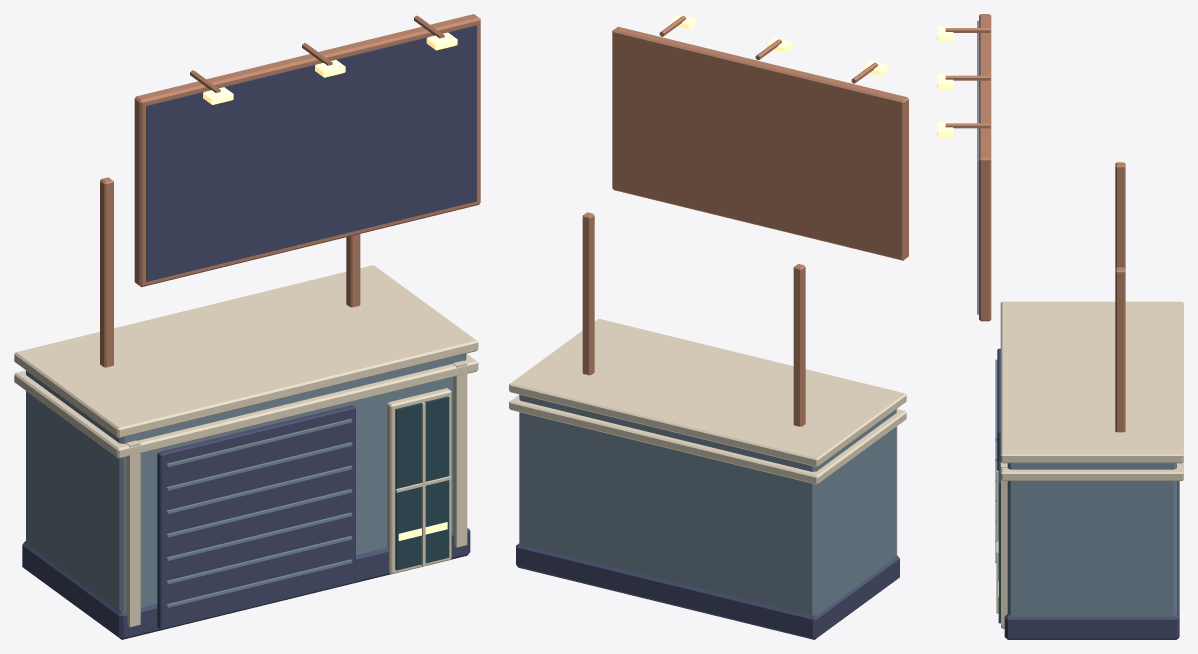
Rendered from sf3_billboard_garage_7m.glb.
3 renders of one model, left to right at view 1: azimuth 30°, elevation 25°; view 2: azimuth 150°, elevation 25°; view 3: azimuth 270°, elevation 25°, orthographic. The views are drawn at different scales.
Parts seen in each view (by area): view 1: sf3_billboard_garage_7m__sf3-midnight-indigo, sf3_billboard_garage_7m__sf3-warm-ivory, sf3_billboard_garage_7m__sf3-dusty-blue, sf3_billboard_garage_7m__sf3-burnished-copper, sf3_billboard_garage_7m__sf3-deep-glass, sf3_billboard_garage_7m__sf3-warm-window; view 2: sf3_billboard_garage_7m__sf3-burnished-copper, sf3_billboard_garage_7m__sf3-dusty-blue, sf3_billboard_garage_7m__sf3-warm-ivory, sf3_billboard_garage_7m__sf3-midnight-indigo, sf3_billboard_garage_7m__sf3-warm-window; view 3: sf3_billboard_garage_7m__sf3-warm-ivory, sf3_billboard_garage_7m__sf3-dusty-blue, sf3_billboard_garage_7m__sf3-burnished-copper, sf3_billboard_garage_7m__sf3-midnight-indigo, sf3_billboard_garage_7m__sf3-warm-window, sf3_billboard_garage_7m__sf3-deep-glass.
Boxes of the visible parts, x1,y1,x2,y2 form: sf3_billboard_garage_7m__sf3-midnight-indigo: (22, 25, 476, 639); sf3_billboard_garage_7m__sf3-warm-ivory: (14, 265, 478, 627); sf3_billboard_garage_7m__sf3-dusty-blue: (26, 353, 466, 611); sf3_billboard_garage_7m__sf3-burnished-copper: (100, 14, 480, 367); sf3_billboard_garage_7m__sf3-deep-glass: (395, 396, 449, 570); sf3_billboard_garage_7m__sf3-warm-window: (203, 32, 457, 540); sf3_billboard_garage_7m__sf3-burnished-copper: (582, 16, 908, 426); sf3_billboard_garage_7m__sf3-dusty-blue: (519, 394, 896, 615); sf3_billboard_garage_7m__sf3-warm-ivory: (509, 319, 906, 554); sf3_billboard_garage_7m__sf3-midnight-indigo: (516, 543, 899, 639); sf3_billboard_garage_7m__sf3-warm-window: (670, 14, 888, 76); sf3_billboard_garage_7m__sf3-warm-ivory: (996, 301, 1183, 628); sf3_billboard_garage_7m__sf3-dusty-blue: (995, 359, 1176, 616); sf3_billboard_garage_7m__sf3-burnished-copper: (945, 14, 1125, 432); sf3_billboard_garage_7m__sf3-midnight-indigo: (977, 20, 1179, 639); sf3_billboard_garage_7m__sf3-warm-window: (937, 26, 998, 596); sf3_billboard_garage_7m__sf3-deep-glass: (998, 461, 1000, 623).
Bounding box in the file's own units: 6.45 × 9.6 × 4.38.
